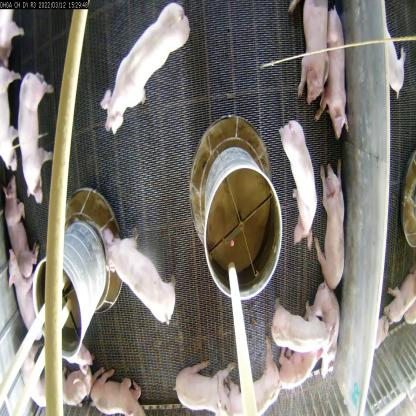Pig: (110, 9, 192, 146), (99, 236, 177, 338), (4, 59, 57, 204), (280, 0, 327, 113), (320, 155, 354, 290), (177, 350, 243, 416), (285, 124, 319, 239), (316, 283, 346, 394), (272, 344, 324, 406), (324, 1, 345, 154), (269, 306, 327, 356), (0, 163, 28, 262), (47, 365, 103, 407), (229, 367, 278, 415), (84, 378, 144, 416), (14, 267, 38, 335)
